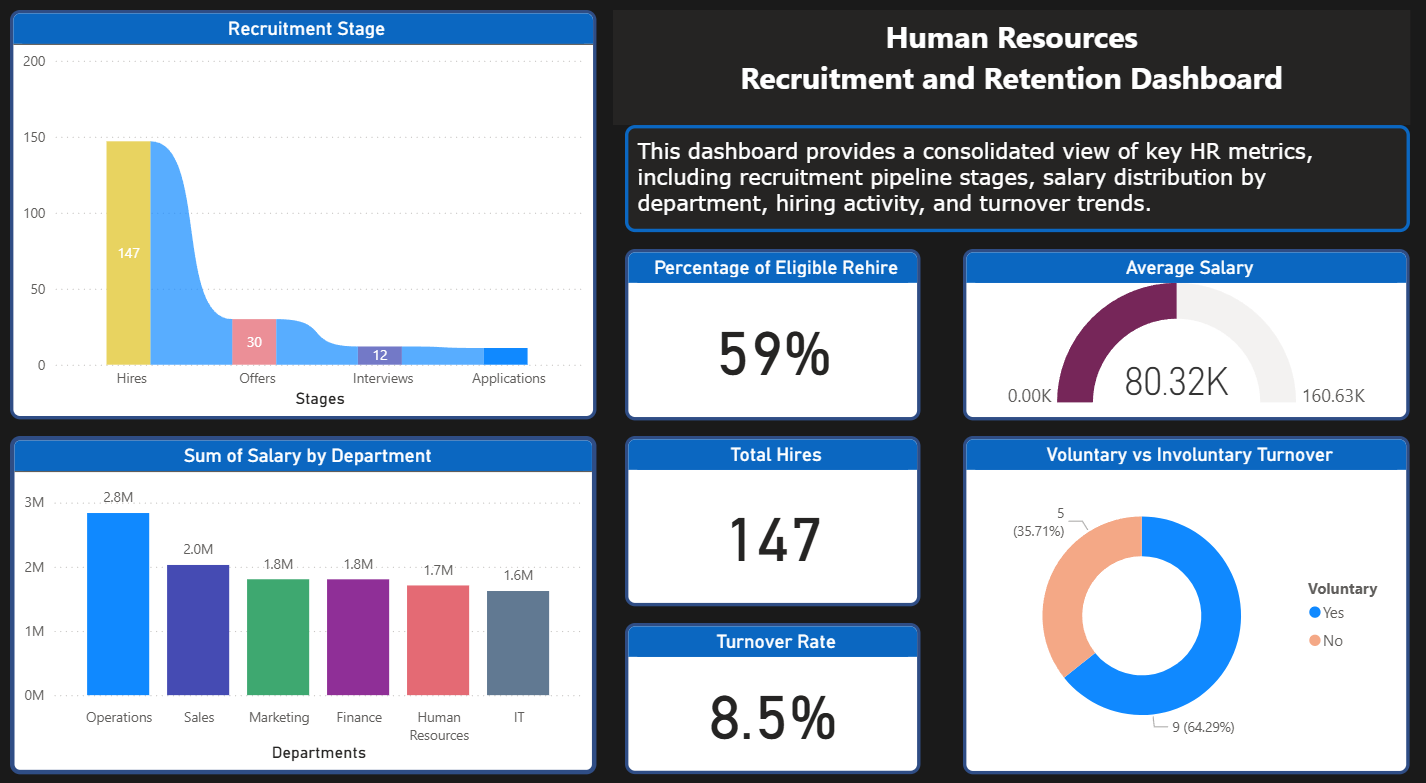

This screenshot's page, from the dashboard's own definition file:
{"tool":"powerbi","page":{"name":"Page 1","canvas":[1280,720],"ordinal":0},"visuals":[{"type":"ribbonChart","title":"Recruitment Stage","fields":{"Category":["hr_sample_data.Stage"],"Y":["CountNonNull(hr_sample_data.Stage)"]},"box":[15.3,19.5,520.1,362.5],"z":0},{"type":"card","title":"Total Hires","fields":{"Values":["hr_sample_data.TotalHires"]},"box":[560.5,397.4,262.1,150.6],"z":1000},{"type":"columnChart","fields":{"Category":["hr_sample_data.Department"],"Y":["Sum(hr_sample_data.Salary)"]},"box":[15.3,397.4,520.1,299.8],"z":2000},{"type":"donutChart","title":"Voluntary vs Involuntary Turnover","fields":{"Y":["CountNonNull(hr_sample_data.EmployeeID)"],"Category":["hr_sample_data.Voluntary"]},"box":[860.3,397.4,396,299.8],"z":3000},{"type":"card","title":"Turnover Rate","fields":{"Values":["hr_sample_data.TurnoverRate"]},"box":[560.5,563.3,262.1,133.9],"z":4000},{"type":"textbox","title":"Human Resources Recruitment and Retention Dashboard","box":[560.5,121.3,695.8,94.8],"z":4001},{"type":"textbox","box":[549.4,19.5,706.9,101.8],"z":4002},{"type":"card","title":"Percentage of Eligible Rehire","fields":{"Values":["hr_sample_data.PctEligibleRehire"]},"box":[560.5,231.5,262.1,152],"z":4003},{"type":"gauge","title":"Average Salary","fields":{"Y":["hr_sample_data.AvgSalary"]},"box":[860.3,231.5,396,152],"z":4004}]}

Visuals, with their boxes in screenshot pixels (x1, y1, x2, y2), scaled from the page's 1280x720 canvas onto the 1426x783 screenshot:
"Recruitment Stage" ribbonChart: BBox(17, 21, 596, 415)
"Total Hires" card: BBox(624, 432, 916, 596)
columnChart - hr_sample_data.Department x Sum(hr_sample_data.Salary): BBox(17, 432, 596, 758)
"Voluntary vs Involuntary Turnover" donutChart: BBox(958, 432, 1400, 758)
"Turnover Rate" card: BBox(624, 613, 916, 758)
"Human Resources Recruitment and Retention Dashboard" textbox: BBox(624, 132, 1400, 235)
textbox: BBox(612, 21, 1400, 132)
"Percentage of Eligible Rehire" card: BBox(624, 252, 916, 417)
"Average Salary" gauge: BBox(958, 252, 1400, 417)
